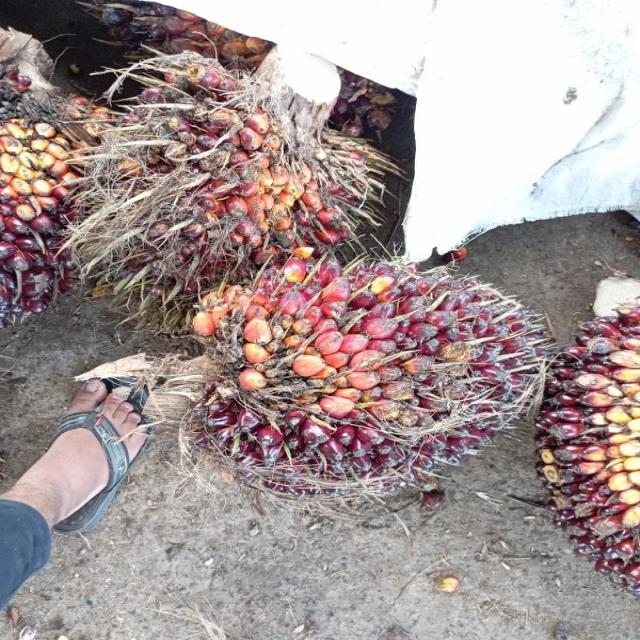fraksi 1: (32, 29, 469, 335), (161, 207, 564, 538)
